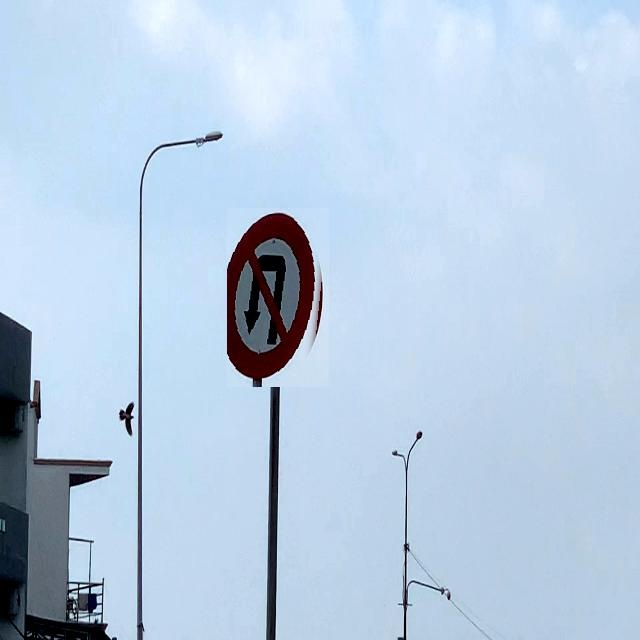bien_cam: (227, 208, 329, 387)
